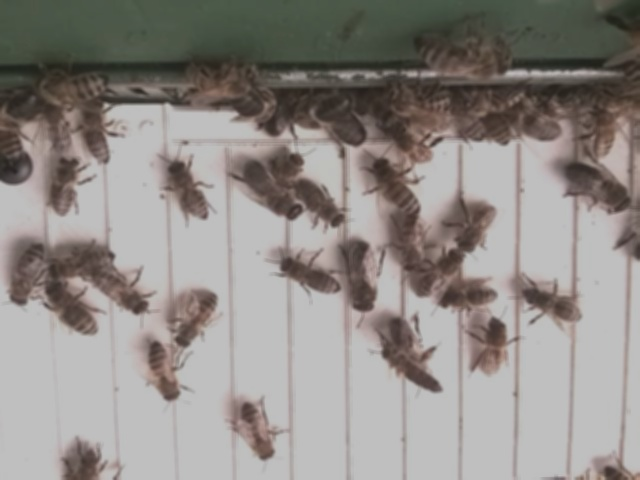Drone: (242, 159, 304, 225), (566, 160, 636, 217), (276, 88, 355, 133), (346, 240, 380, 316)
Worker: (44, 281, 101, 341), (370, 159, 424, 218), (278, 253, 344, 299), (517, 284, 586, 327), (166, 162, 212, 225), (175, 291, 220, 351), (35, 72, 111, 107), (93, 272, 150, 318), (10, 241, 48, 307), (297, 179, 346, 230), (416, 250, 464, 302), (239, 401, 277, 464), (456, 202, 500, 256), (44, 248, 118, 280), (146, 340, 181, 405), (80, 103, 114, 169), (47, 157, 82, 219), (478, 317, 510, 380), (587, 108, 621, 164), (436, 285, 501, 314), (398, 212, 426, 277)
